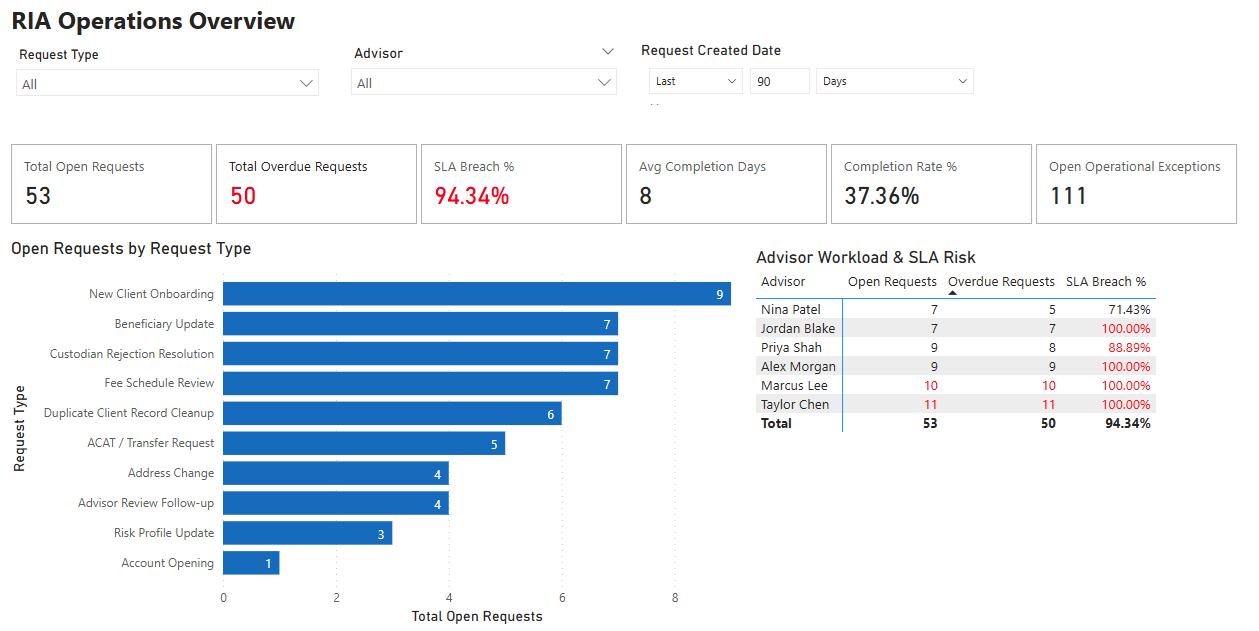

The page's visual inventory and layout, read from the dashboard file:
{"tool":"powerbi","page":{"name":"Operations Overview","canvas":[1280,720],"ordinal":0},"visuals":[{"type":"cardVisual","fields":{"Data":["FactServiceRequests.Total Open Requests","FactServiceRequests.Total Overdue Requests","FactServiceRequests.SLA Breach %","FactServiceRequests.Avg Completion Days","FactServiceRequests.Completion Rate %","FactDataQualityExceptions.Total Open Exceptions"]},"box":[10,141,1241,90],"z":0},{"type":"slicer","fields":{"Values":["DimRequestType.Request Type"]},"box":[10,44,323,63],"z":1000},{"type":"barChart","title":"Open Requests by Request Type","fields":{"Category":["DimRequestType.Request Type"],"Y":["FactServiceRequests.Total Open Requests"]},"box":[10,240,734,391],"z":2000},{"type":"pivotTable","title":"Advisor Workload & SLA Risk","fields":{"Rows":["DimAdvisor.AdvisorName"],"Values":["FactServiceRequests.Total Open Requests","FactServiceRequests.Total Overdue Requests","FactServiceRequests.SLA Breach %"]},"box":[755,249,413,221],"z":3000},{"type":"textbox","box":[10,0,745,48],"z":4000},{"type":"slicer","title":"Request Created Date","fields":{"Values":["FactServiceRequests.Created Date"]},"box":[640,44,352,63],"z":5000},{"type":"slicer","fields":{"Values":["DimAdvisor.Advisor Name"]},"box":[345,42,286,65],"z":6000}]}

Visuals, with their boxes on the page's 1280x720 design canvas (x1, y1, x2, y2). These are canvas units, not pixel positions in the 1259x631 screenshot, which may show the page scaled, cropped or inside an application window:
cardVisual - FactServiceRequests.Total Open Requests x FactServiceRequests.Total Overdue Requests: bbox=[10, 141, 1251, 231]
slicer - DimRequestType.Request Type: bbox=[10, 44, 333, 107]
"Open Requests by Request Type" barChart: bbox=[10, 240, 744, 631]
"Advisor Workload & SLA Risk" pivotTable: bbox=[755, 249, 1168, 470]
textbox: bbox=[10, 0, 755, 48]
"Request Created Date" slicer: bbox=[640, 44, 992, 107]
slicer - DimAdvisor.Advisor Name: bbox=[345, 42, 631, 107]
